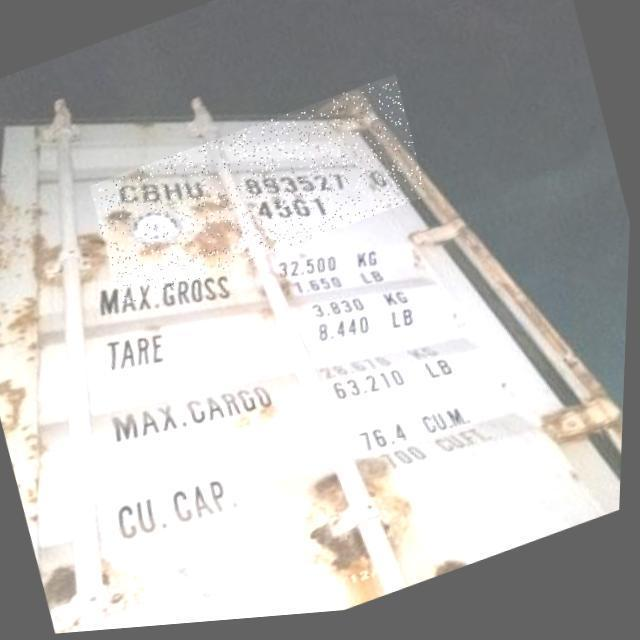container_number_h: (87, 78, 432, 312)
